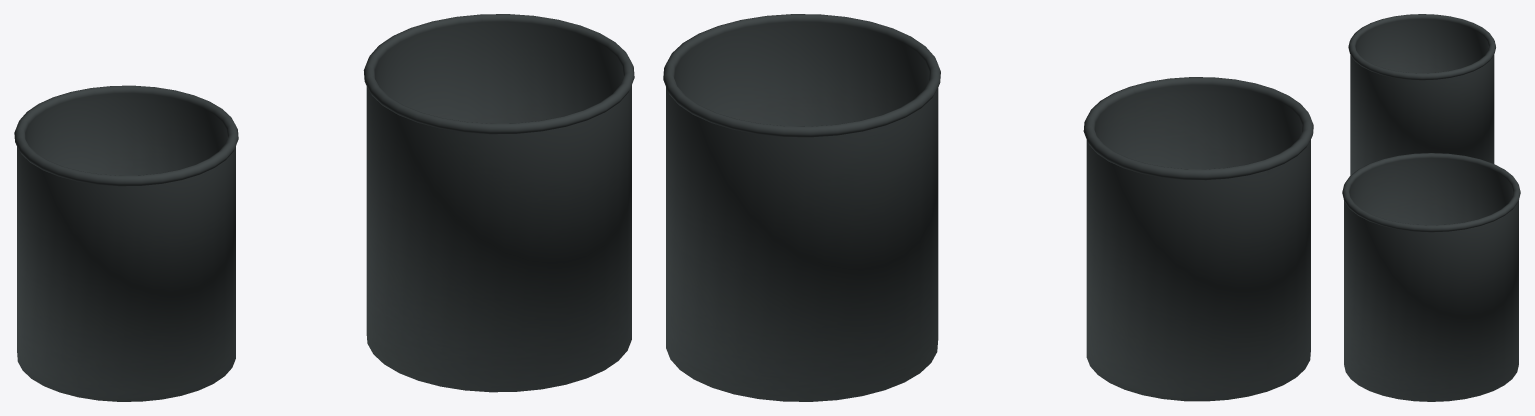
File: 1_glass.obj
3 renders of one model, left to right at view 1: azimuth 30°, elevation 25°; view 2: azimuth 150°, elevation 25°; view 3: azimuth 270°, elevation 25°, orthographic. The views are drawn at different scales.
Size of the model in its own units: 1.47 by 0.717 by 0.582.
Materials: 1 (1 with a texture image).
